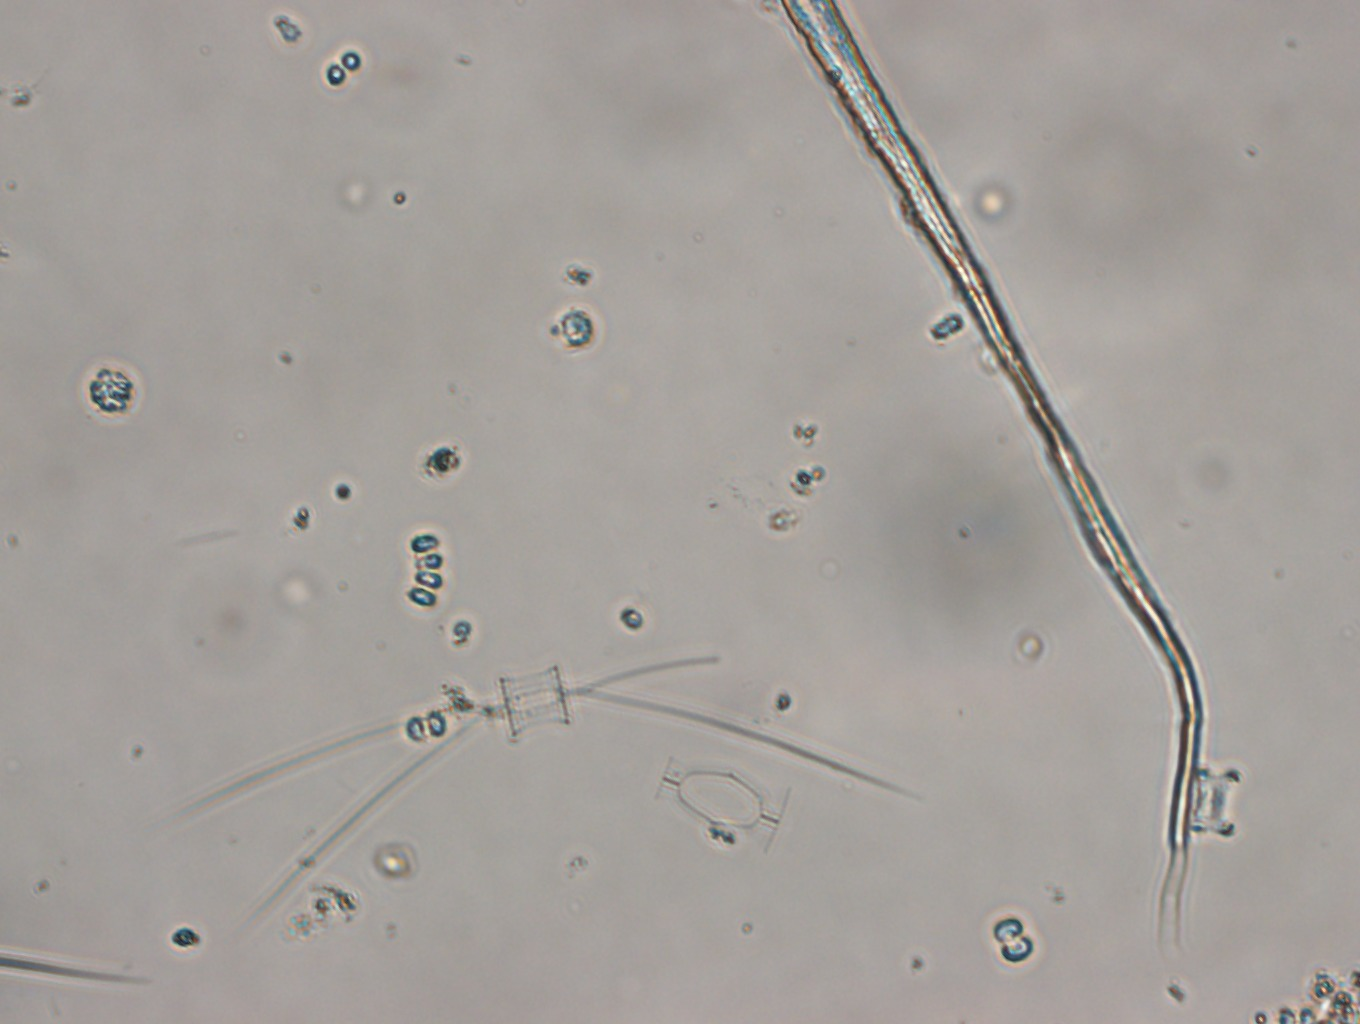chaetoceros: (176, 657, 924, 919)
